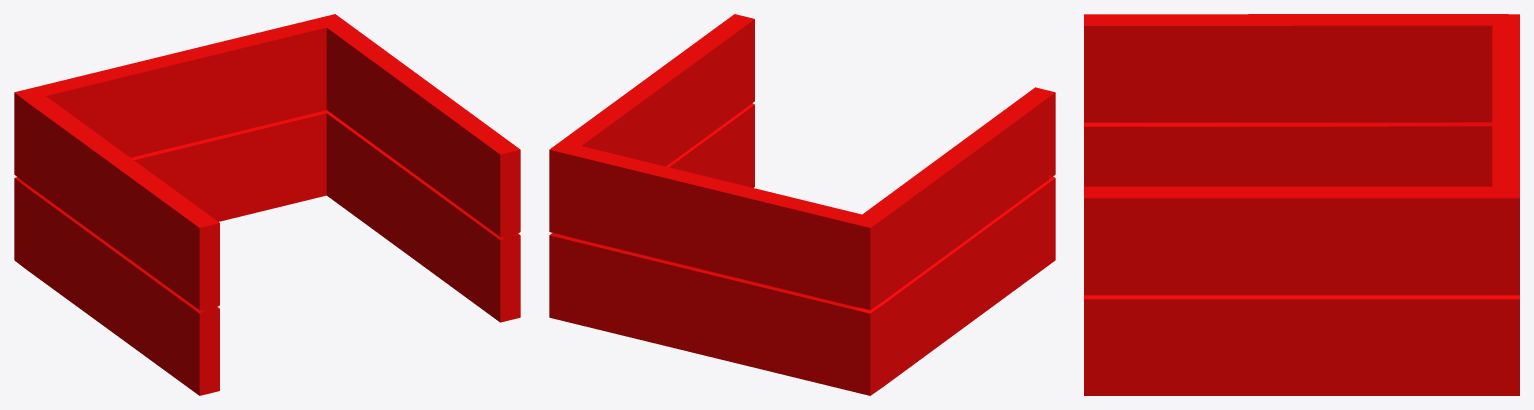
The model's file is Esquina3.FBX.
3 views of the same model, side by side, from view 1: azimuth 30°, elevation 25°; view 2: azimuth 150°, elevation 25°; view 3: azimuth 270°, elevation 25° (orthographic). The views are drawn at different scales.
Parts seen in each view (by area): view 1: Esquina2_LP; view 2: Esquina2_LP; view 3: Esquina2_LP.
Part boxes in pixels (x1,y1,x2,y2): Esquina2_LP: (14,14,520,395); Esquina2_LP: (549,14,1055,395); Esquina2_LP: (1084,14,1519,395).
Bounding box in the file's own units: 158 × 78.74 × 157.
